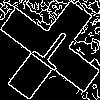T: (25, 25, 77, 79)
